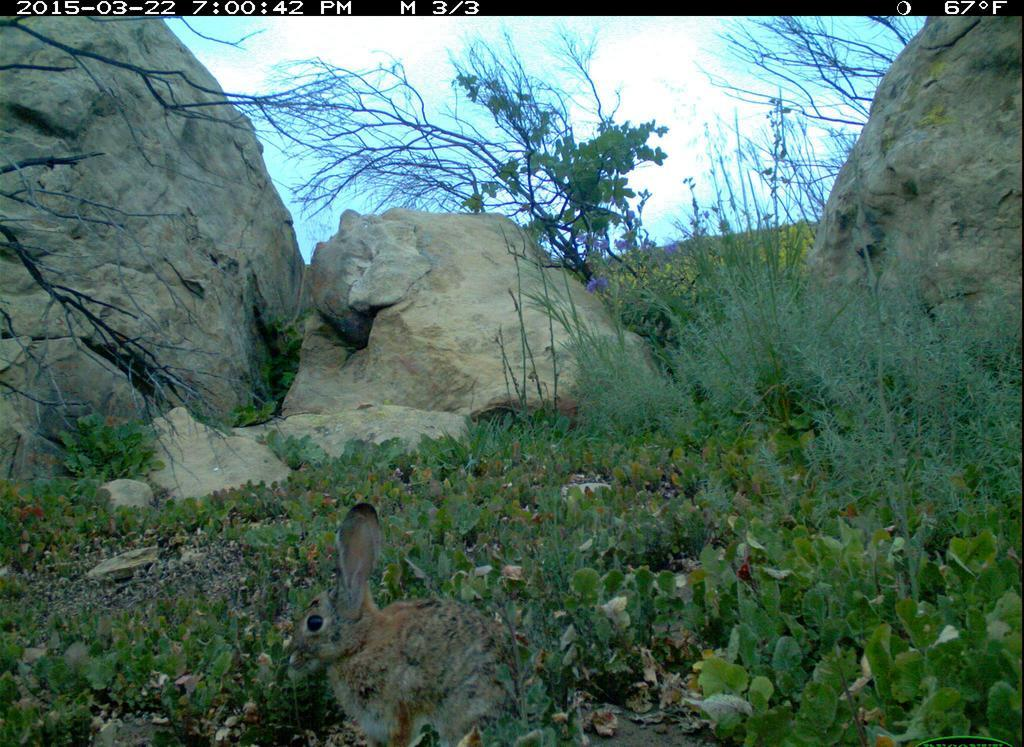rabbit: (274, 497, 538, 747)
